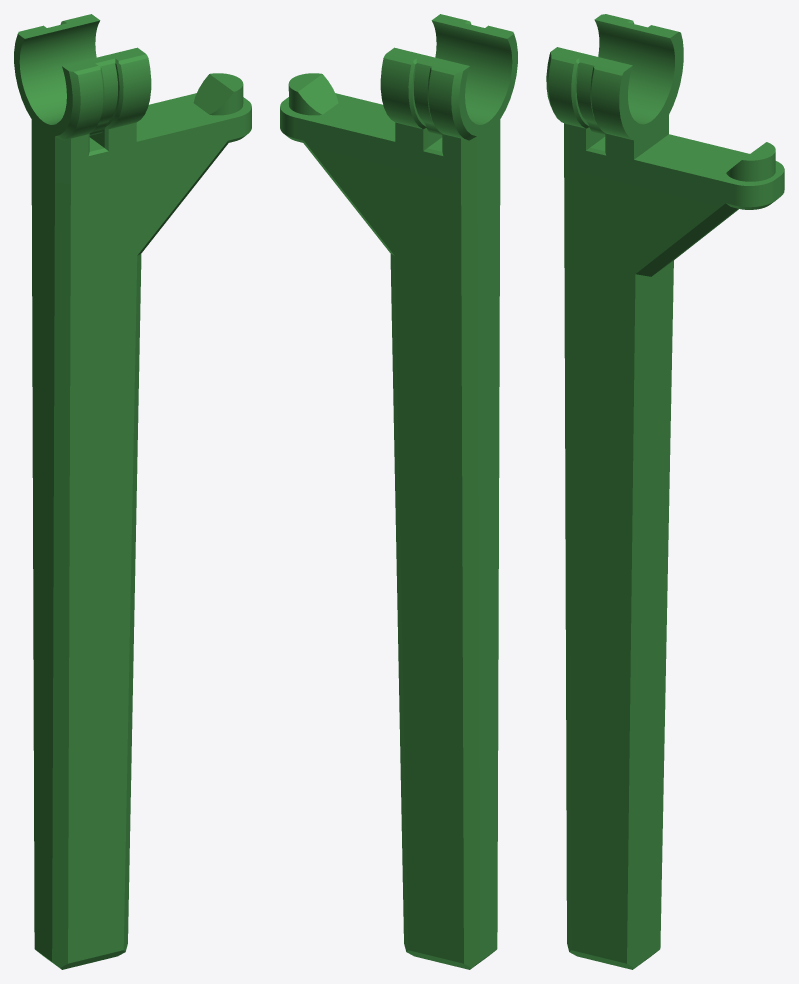
The model's file is holybro_x500_leg.dae.
3 views of the same model, side by side, from view 1: azimuth 30°, elevation 25°; view 2: azimuth 150°, elevation 25°; view 3: azimuth 330°, elevation 25° (orthographic).
Visible parts, largest first — view 1: Leg; view 2: Leg; view 3: Leg.
Boxes of the visible parts, x1=… form: Leg: x1=14, y1=14, x2=251, y2=969; Leg: x1=280, y1=14, x2=517, y2=969; Leg: x1=546, y1=14, x2=784, y2=969.
Size of the model in its own units: 0.04 by 0.0222 by 0.173.
